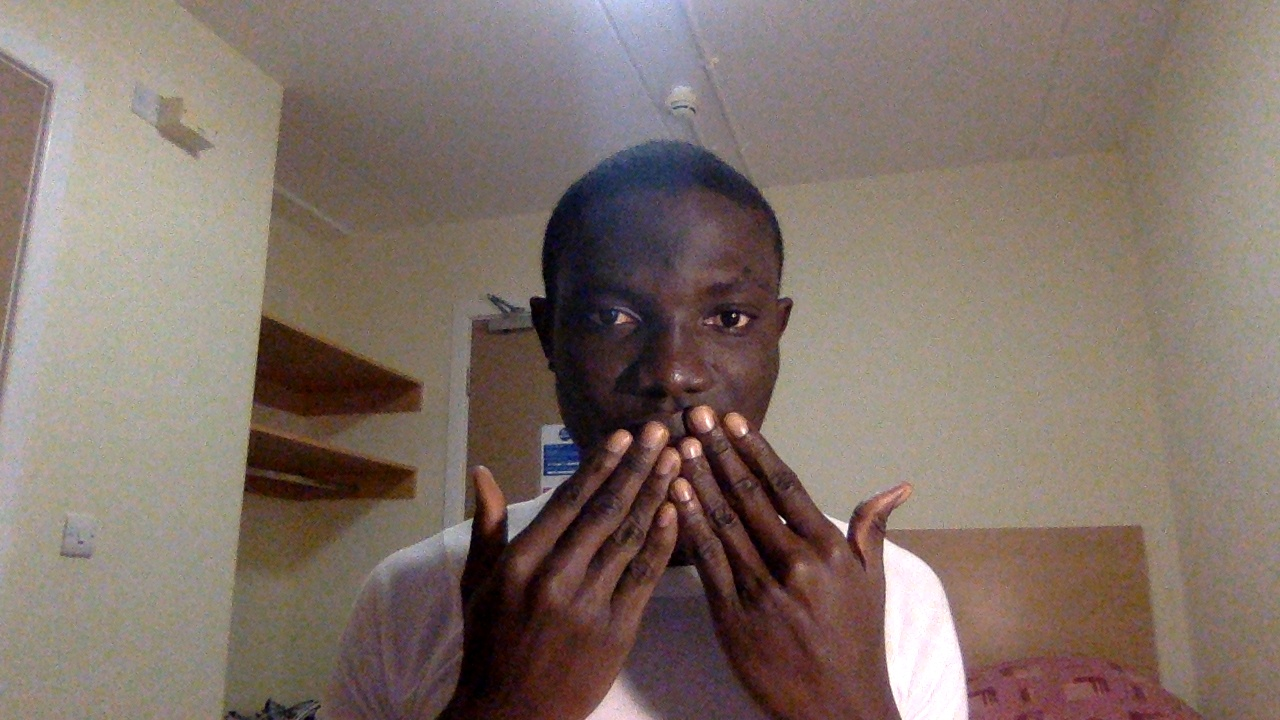Thank You: (453, 388, 924, 720)
